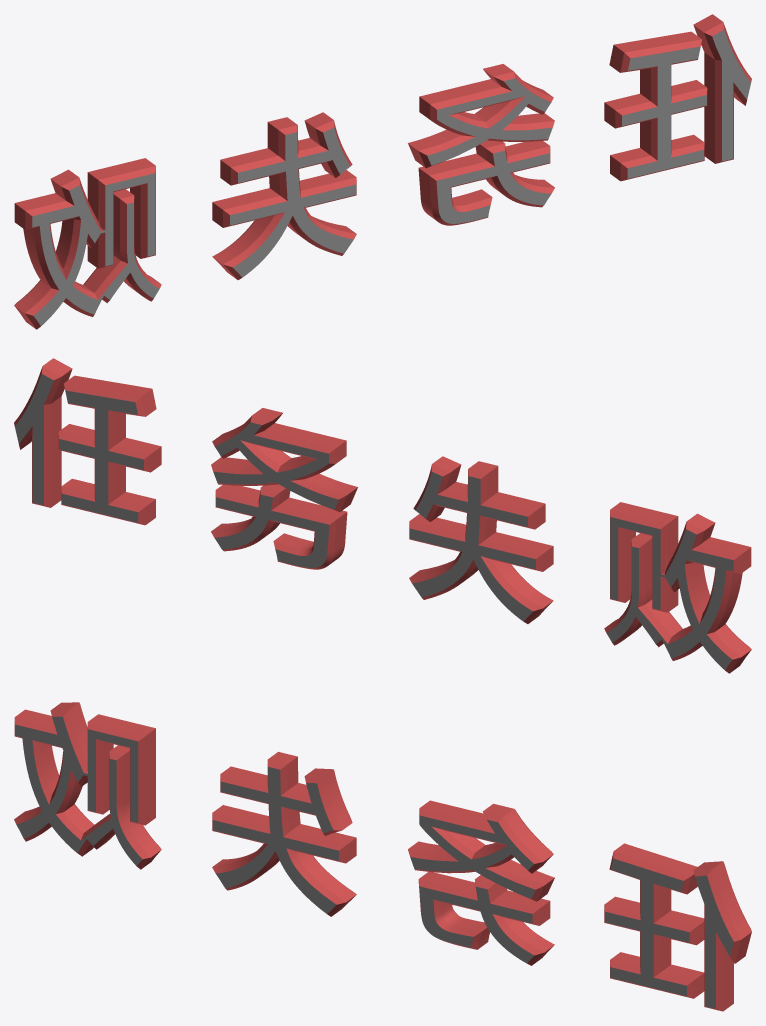
The model's file is Fail_Text.FBX.
3 renders of one model, top to bottom at view 1: azimuth 30°, elevation 25°; view 2: azimuth 150°, elevation 25°; view 3: azimuth 330°, elevation 25°, orthographic.
Parts seen in each view (by area): view 1: FailText; view 2: FailText; view 3: FailText.
Part boxes in pixels (<box>): FailText: <box>14,14,751,329</box>; FailText: <box>14,358,751,673</box>; FailText: <box>14,702,751,1011</box>.
Size of the model in its own units: 964 by 181 by 39.42.
